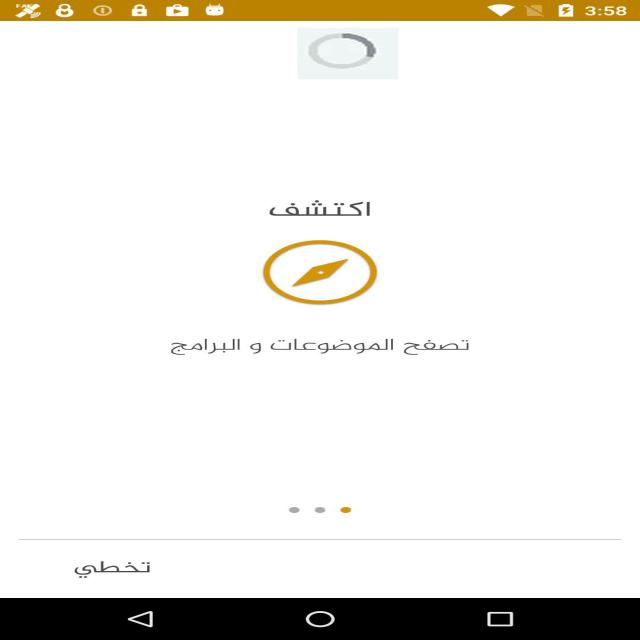misdirection: (298, 28, 398, 79)
